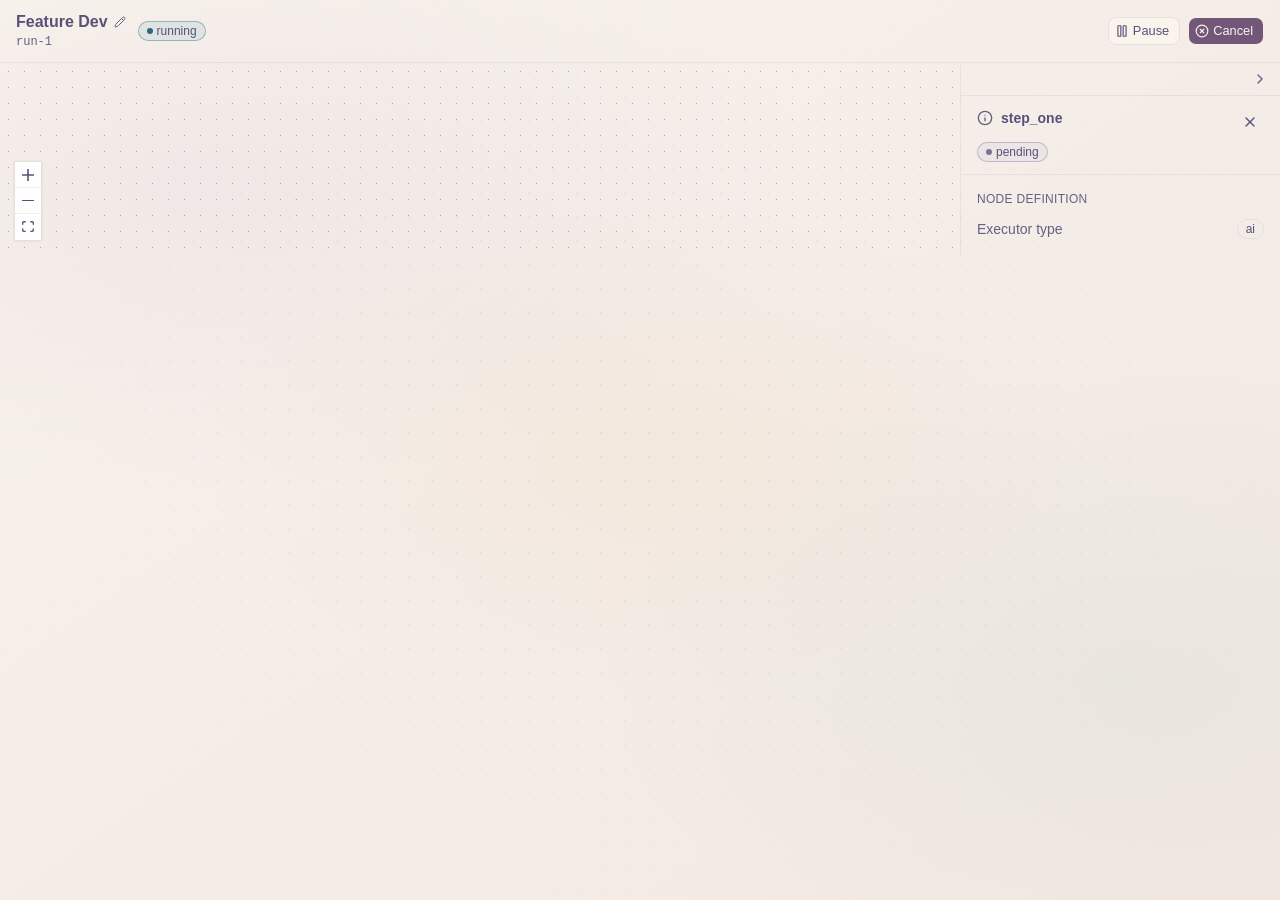
RunMonitorPage › docked (desktop) tier › the close button clears the selection
Click the button with test id "detail-panel-close-button" at (1250, 122), box x1=1236 y1=108 x2=1264 y2=136
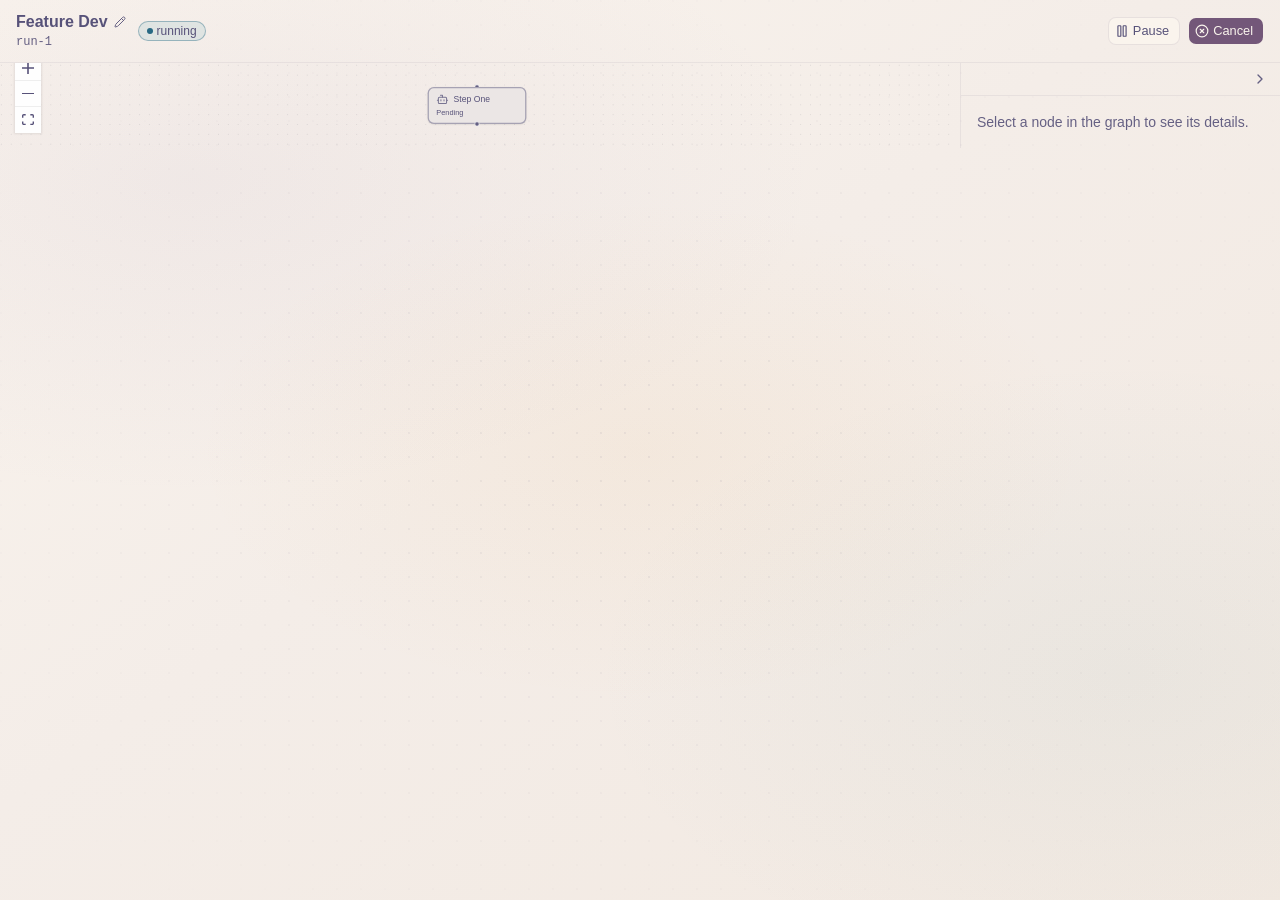
Expected: the element with test id "detail-panel" is gone
Expected: the element with test id "node-detail-empty" is shown, x1=977 y1=114 x2=1249 y2=130
